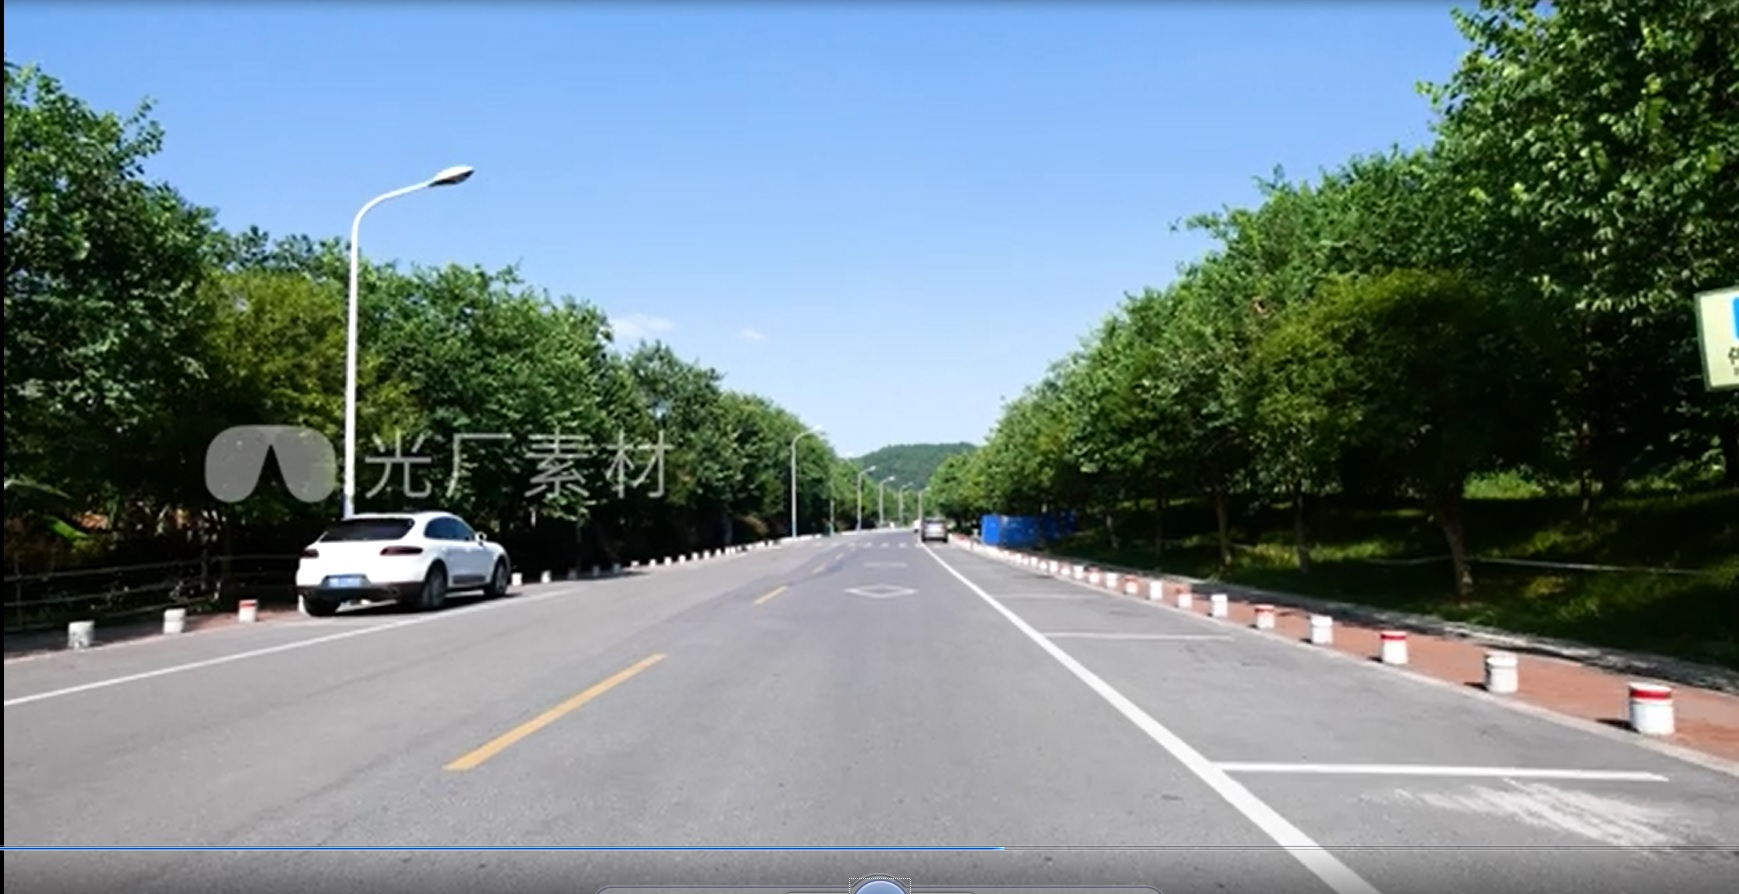slot_nocar: (1029, 610, 1736, 805), (1158, 725, 1739, 894), (8, 566, 421, 725), (968, 570, 1262, 656), (906, 519, 1085, 585)
